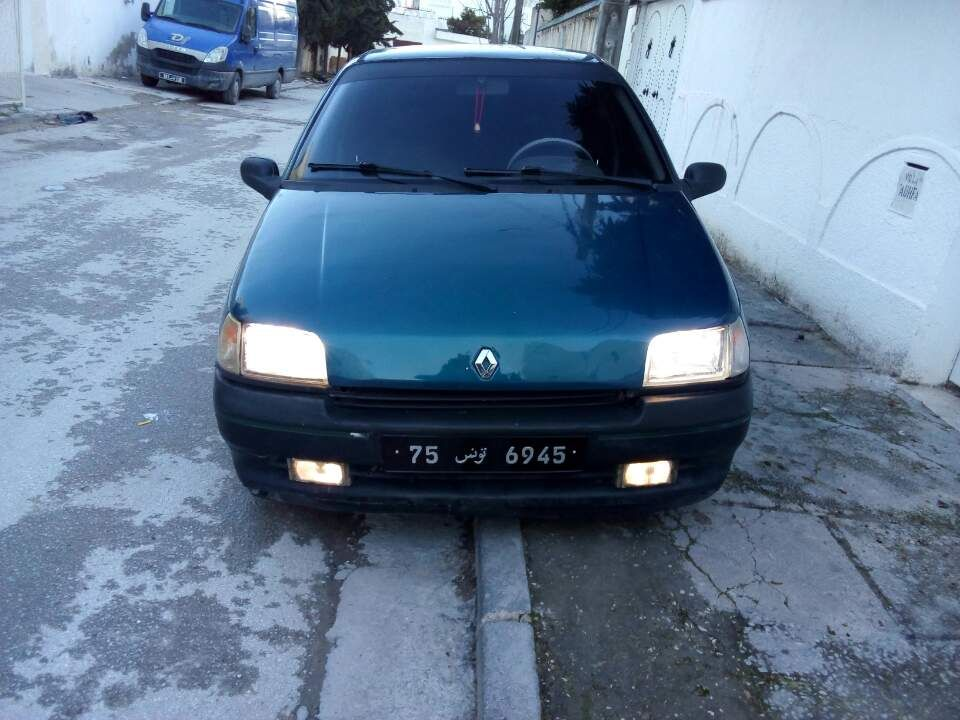LP: (380, 433, 588, 473)
